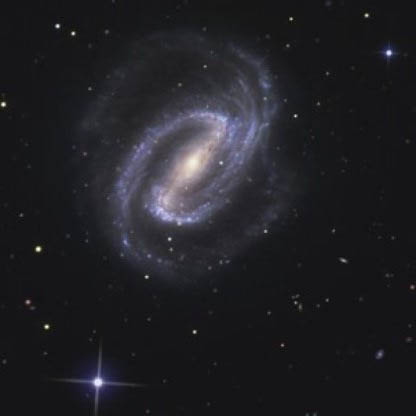NGC 1300: (76, 23, 309, 299)
